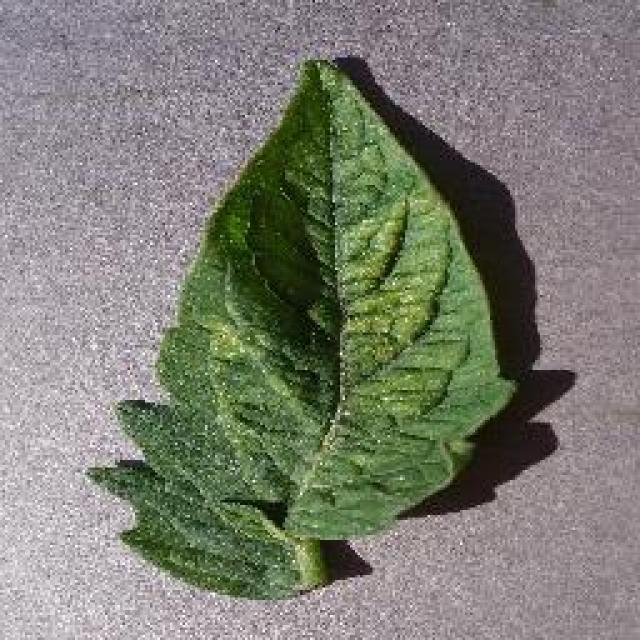Tomato mosaic virus leaf: (77, 49, 525, 601)
